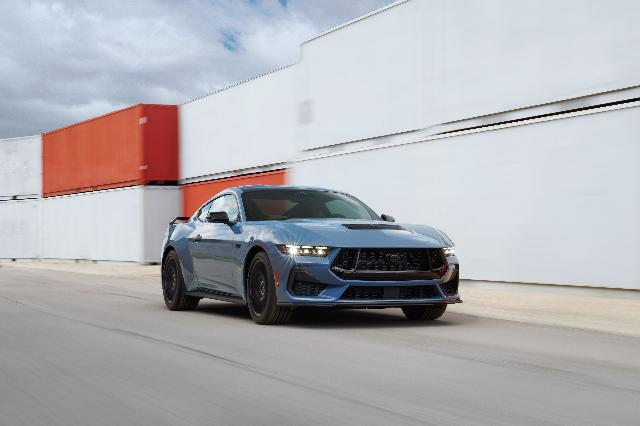ford-mustang: (161, 184, 463, 326)
